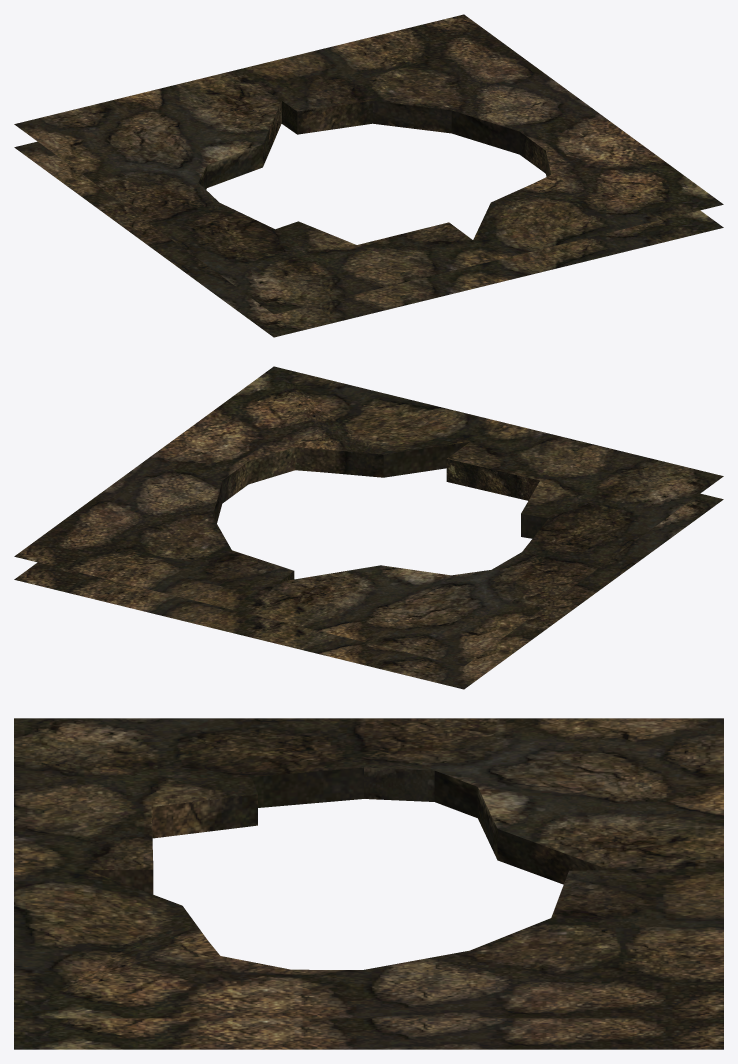
File: prison_tunnel_entry_broken.dae
3 views of the same model, one above another, from view 1: azimuth 30°, elevation 25°; view 2: azimuth 150°, elevation 25°; view 3: azimuth 270°, elevation 25° (orthographic). The views are drawn at different scales.
Parts seen in each view (by area): view 1: polySurface61; view 2: polySurface61; view 3: polySurface61.
Part boxes in pixels (x1,y1,x2,y2): polySurface61: [14, 14, 723, 337]; polySurface61: [14, 366, 723, 689]; polySurface61: [14, 718, 723, 1049].
Size of the model in its own units: 3 by 0.1609 by 3.
